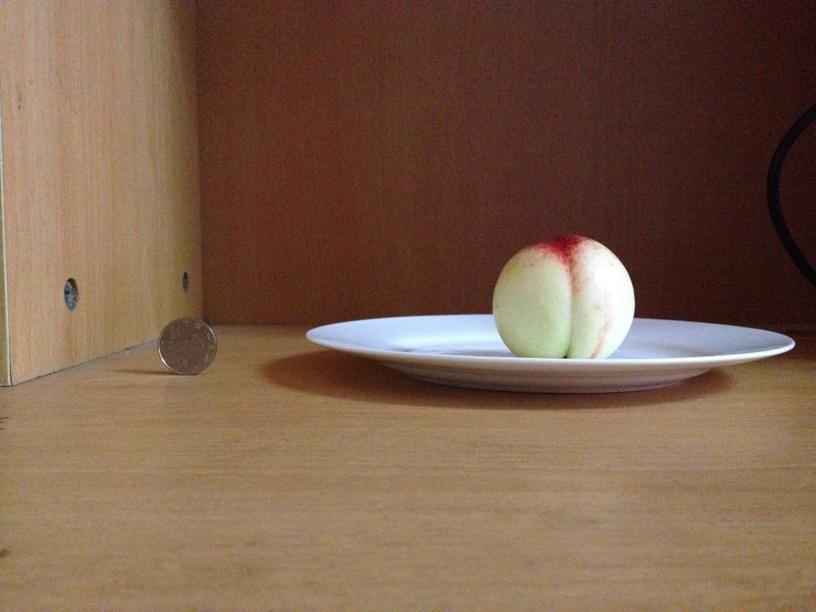coin: (157, 318, 217, 375)
peach: (491, 229, 634, 358)
